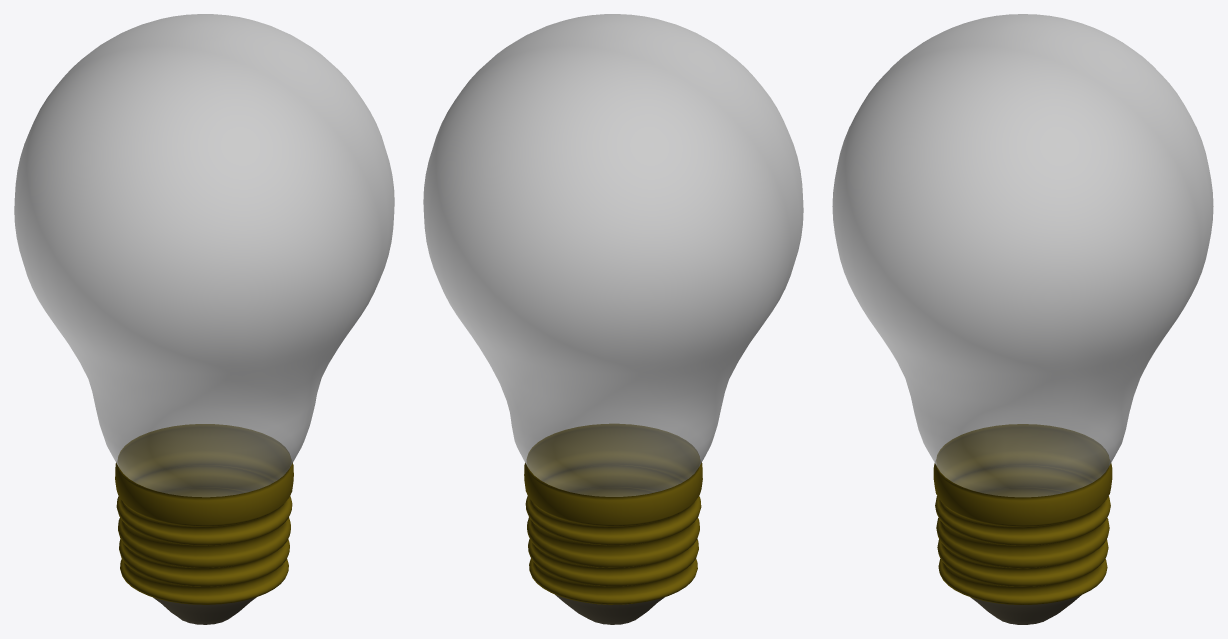
Rendered from maya2sketchfab.fbx.
3 renders of one model, left to right at view 1: azimuth 30°, elevation 25°; view 2: azimuth 150°, elevation 25°; view 3: azimuth 270°, elevation 25°, orthographic.
Parts seen in each view (by area): view 1: pSphere1; view 2: pSphere1; view 3: pSphere1.
Part boxes in pixels (left/top/right/bottom): pSphere1: left=14, top=14, right=394, bottom=624; pSphere1: left=423, top=14, right=803, bottom=624; pSphere1: left=832, top=14, right=1213, bottom=624.
Size of the model in its own units: 15.42 by 26.16 by 15.42.
